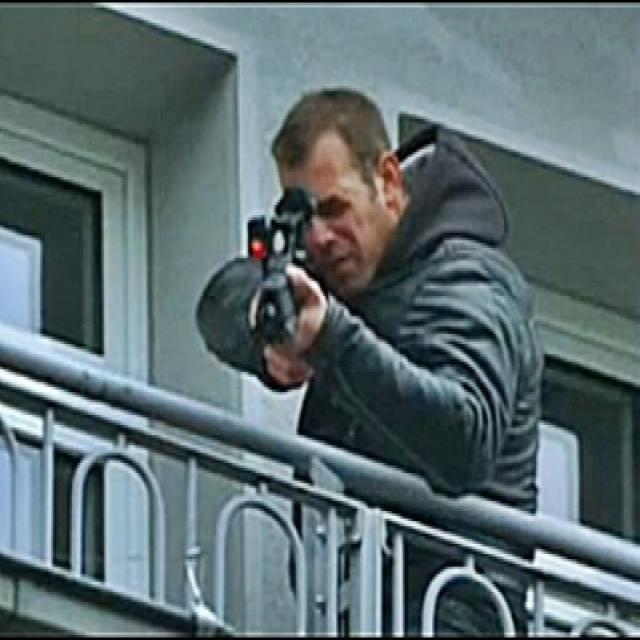rifle: (246, 183, 315, 349)
